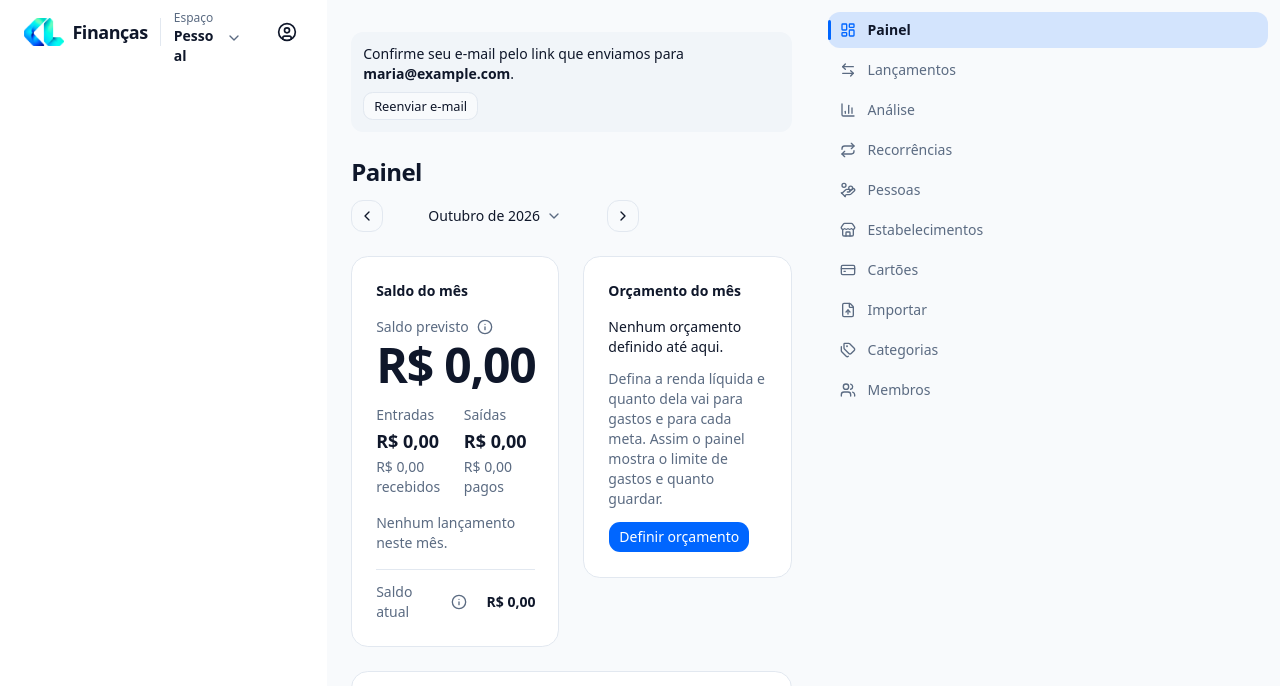
it: AccountPage › opens from the account menu and shows who is signed in
The image size is (1280, 686).
Click the button named "Menu da conta". click: click(287, 32)
box: [271, 16, 303, 48]
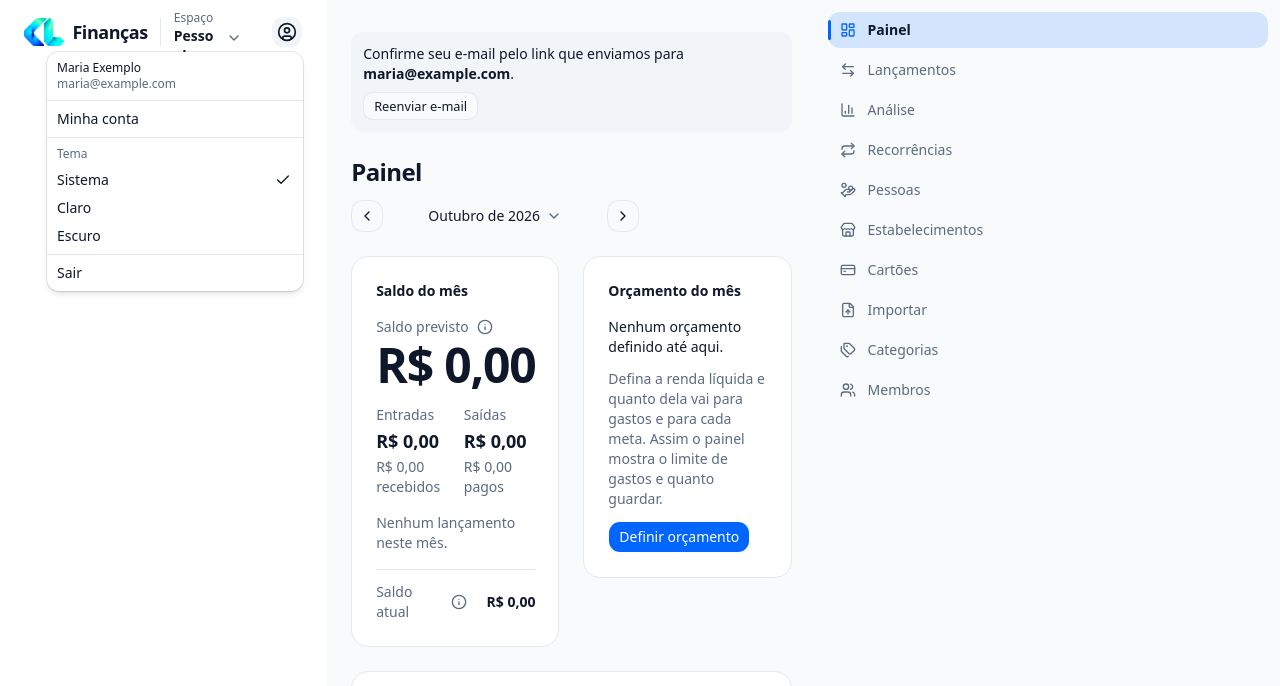
Click the menu item "Minha conta". click: click(98, 118)
box: [57, 109, 139, 128]
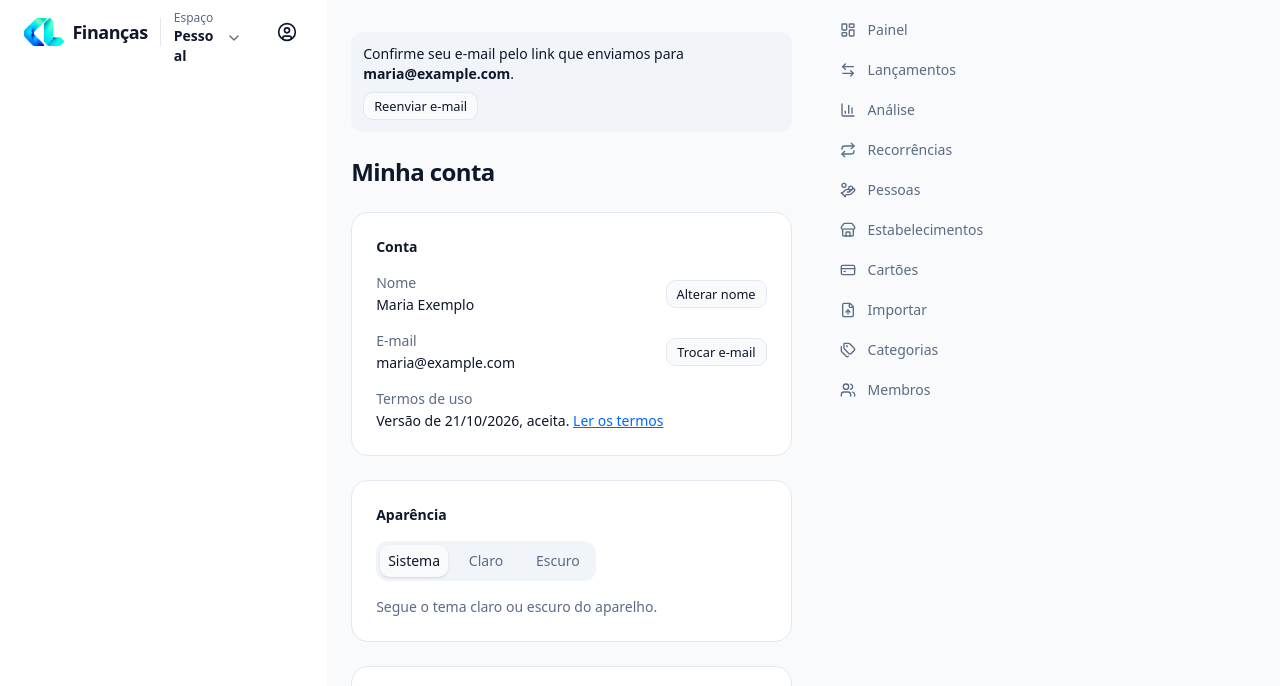
Result: the text "maria@example.com" below "Maria Exemplo" is shown at [376, 353, 515, 372]
Result: the heading "Minha conta" is shown at [351, 156, 495, 188]
